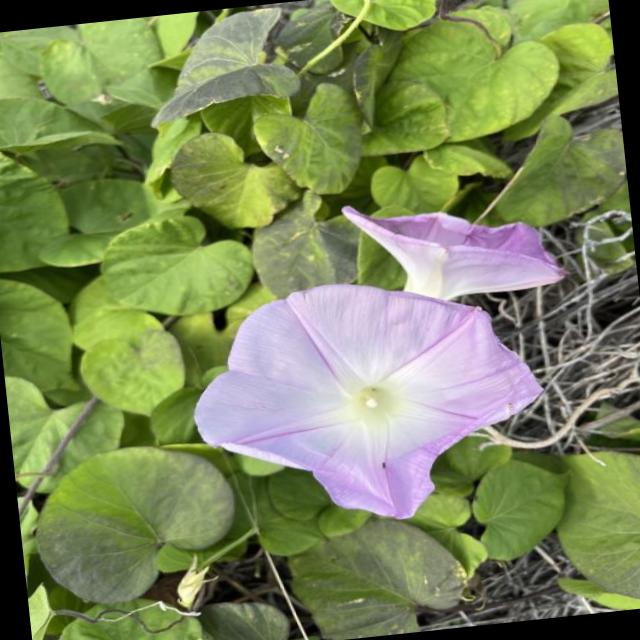ipomoea: (176, 260, 559, 542), (334, 180, 572, 316)
